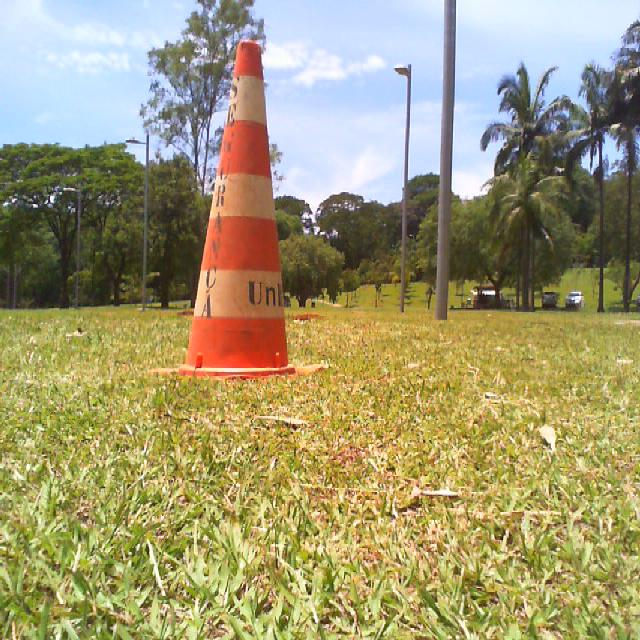cone: (147, 43, 328, 377)
